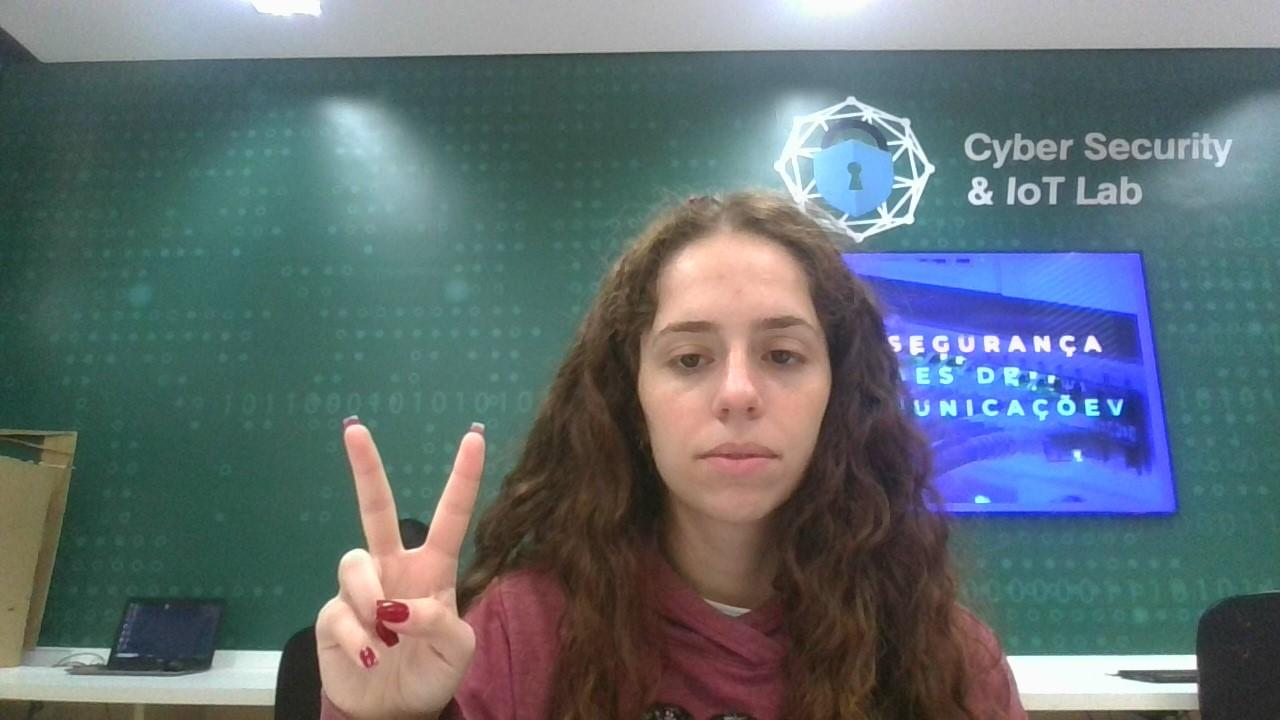V: (302, 408, 508, 720)
